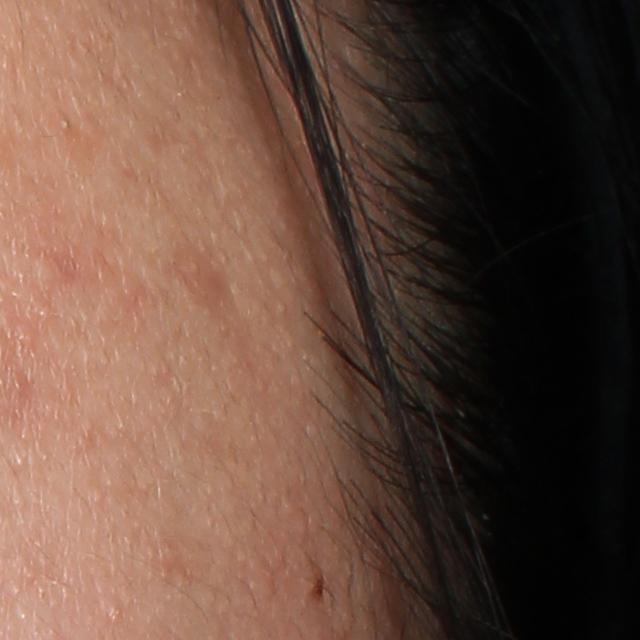comedo: (106, 601, 125, 624), (59, 117, 71, 132)
nevus: (309, 571, 327, 604)
